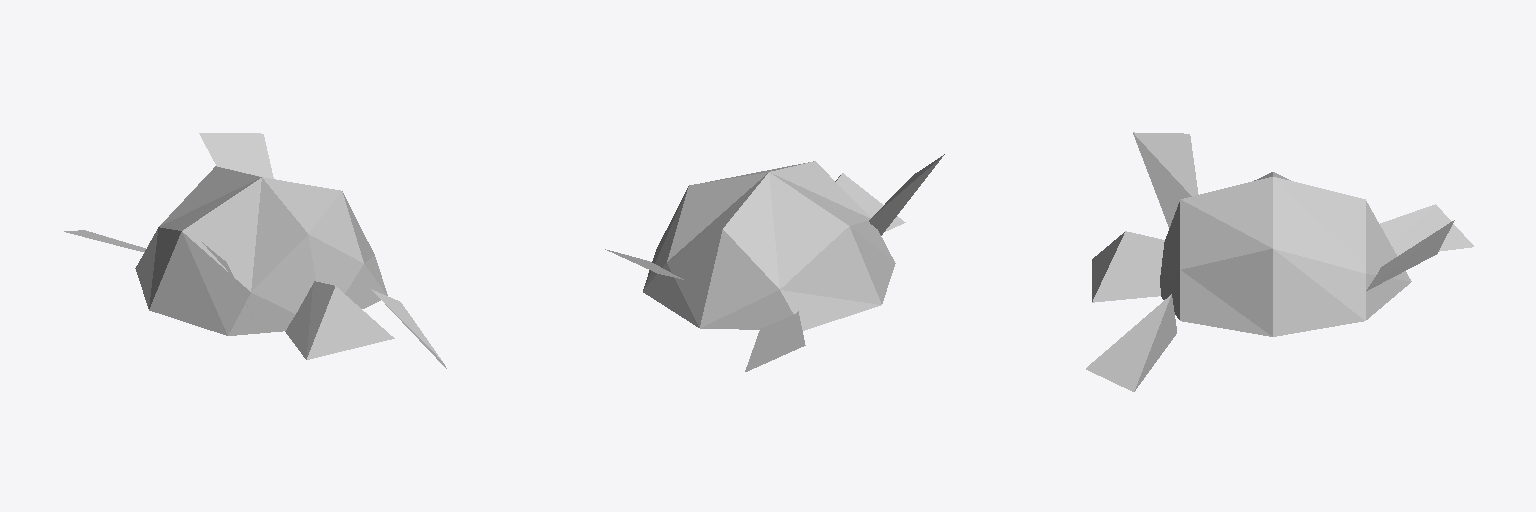
Rendered from ORG_TURTLE.obj.
3 views of the same model, side by side, from view 1: azimuth 30°, elevation 25°; view 2: azimuth 150°, elevation 25°; view 3: azimuth 270°, elevation 25° (orthographic).
Visible parts, largest first — view 1: ORG_TURTLE; view 2: ORG_TURTLE; view 3: ORG_TURTLE.
Boxes of the visible parts, x1,y1,x2,y2 form: ORG_TURTLE: [64, 133, 446, 368]; ORG_TURTLE: [605, 154, 944, 371]; ORG_TURTLE: [1086, 132, 1473, 391].
Bounding box in the file's own units: 11.88 × 7.94 × 17.38.